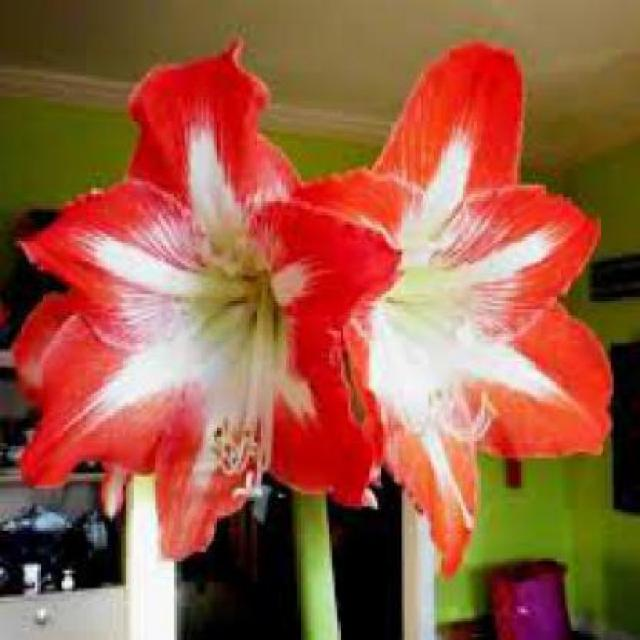Flower: (10, 36, 399, 561), (259, 46, 613, 583)
